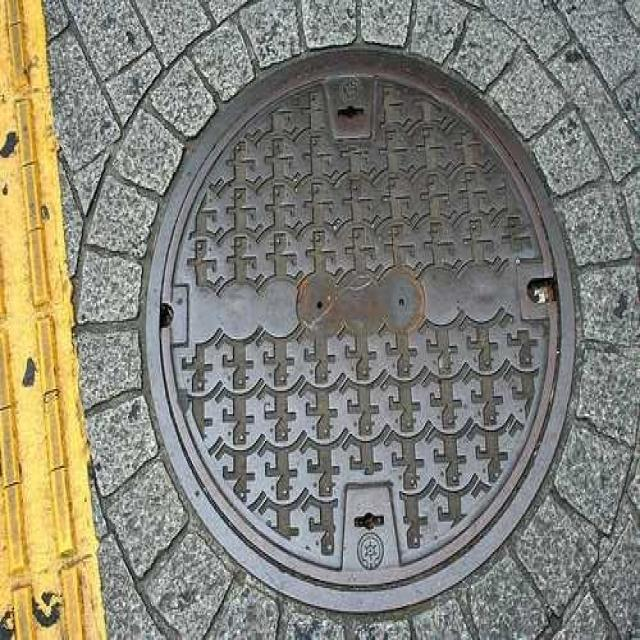manhole: (138, 45, 580, 618)
